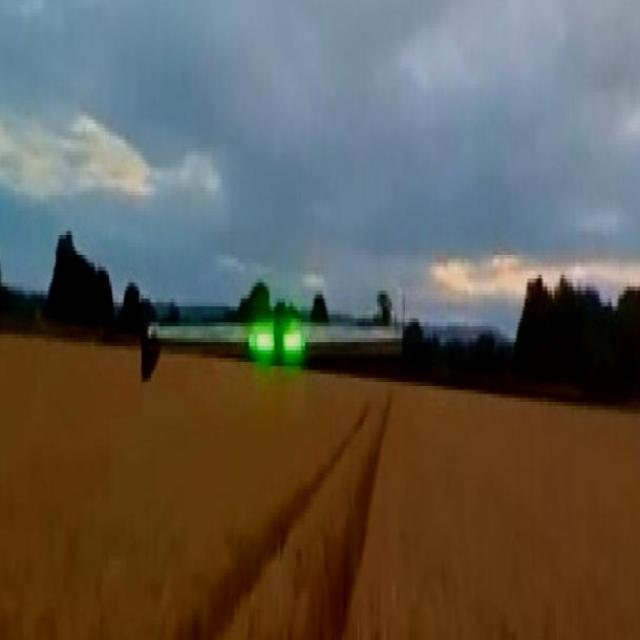plane: (141, 313, 408, 378)
